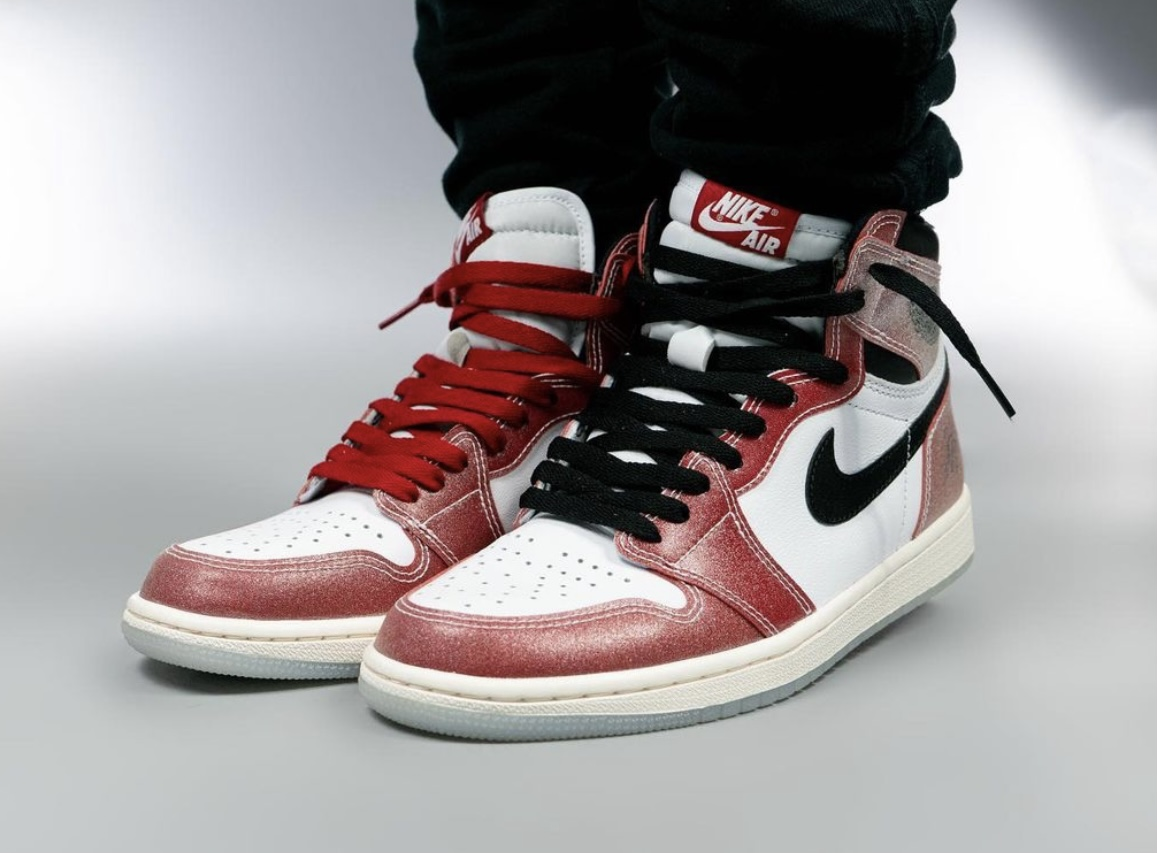Jordan 1: (342, 170, 985, 749)
